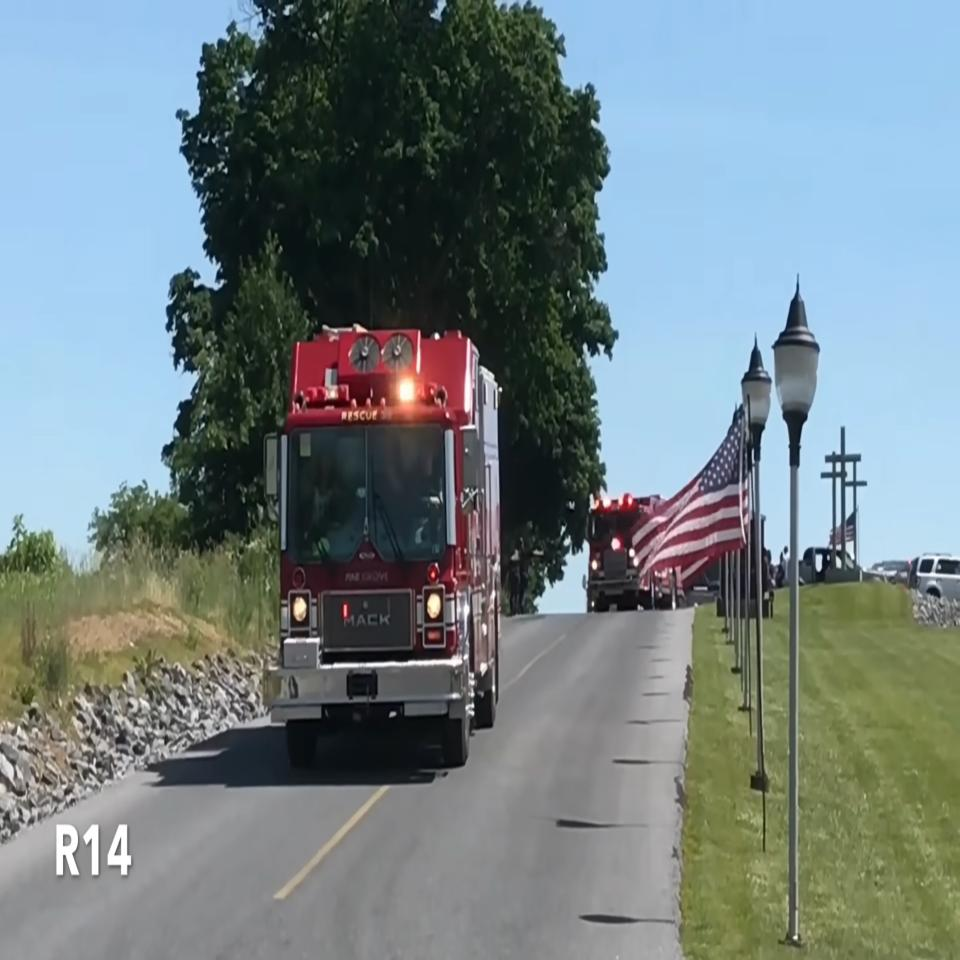viatura: (262, 326, 501, 763)
